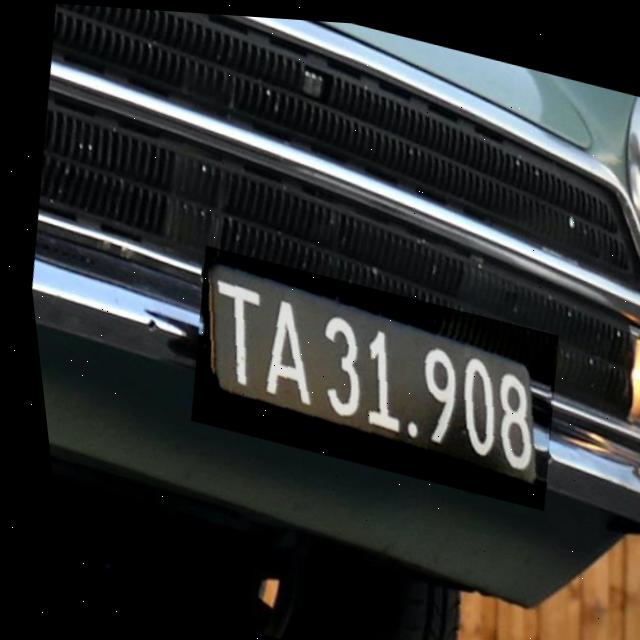LicensePlate: (166, 241, 567, 506)
